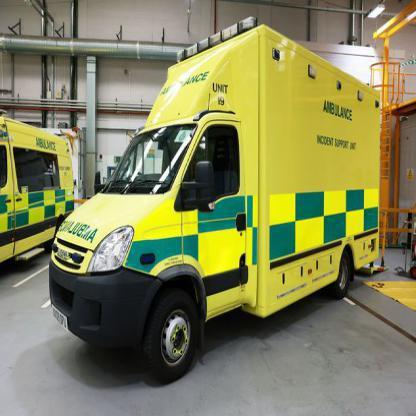Ambulance - v1 Ambulance last generate: (43, 19, 384, 388), (0, 111, 76, 293)
